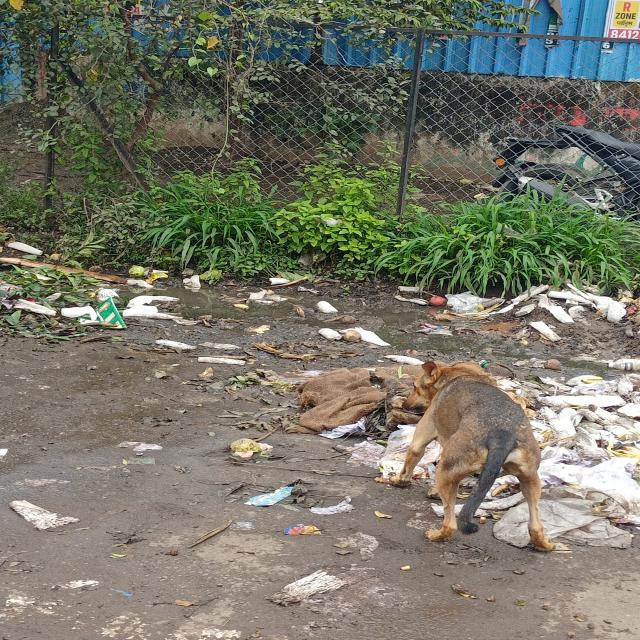garbage: (5, 258, 640, 350), (361, 348, 640, 523)
